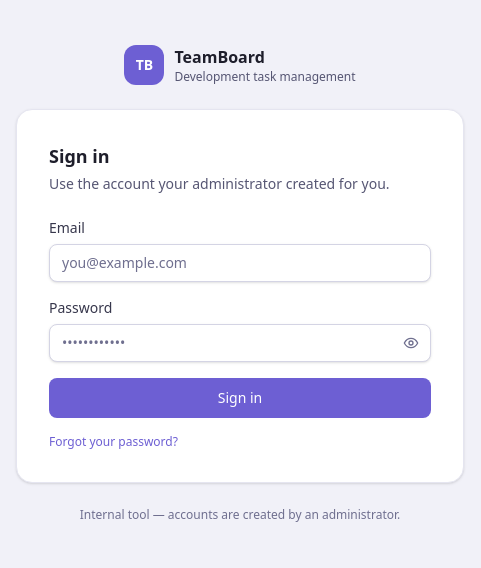
it: LoginPage › shows the server error message when credentials are rejected
The image size is (481, 568).
Step 1. Type "dev@example.com" into the field labelled "Email" → (240, 263), box 49,244 -> 431,282
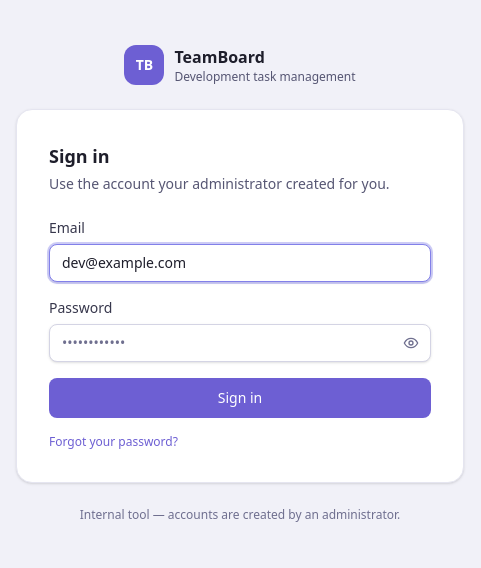
Step 2. Type "Wrong_Password_1!" into the password field labelled "Password" → (240, 343), box 49,324 -> 431,362
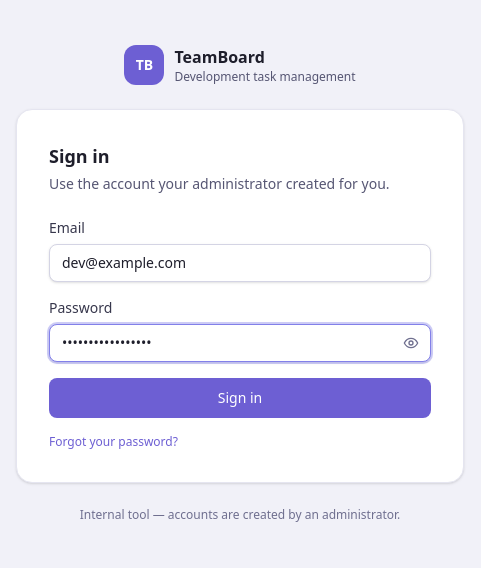
Step 3. Click the button "Sign in" → click(240, 398), box 49,378 -> 431,418
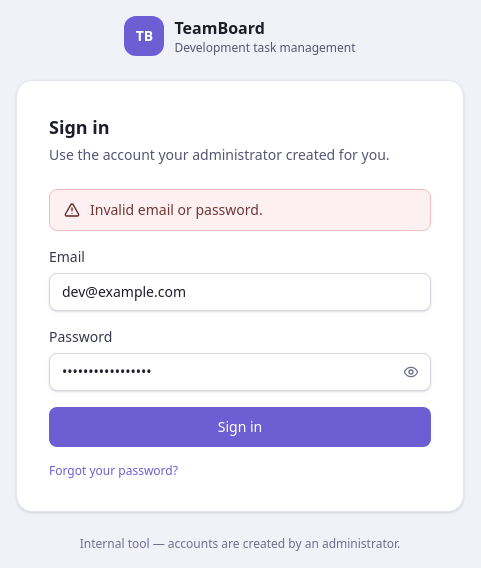
Now the message reads "Invalid email or password.", box 90,200 -> 263,219
